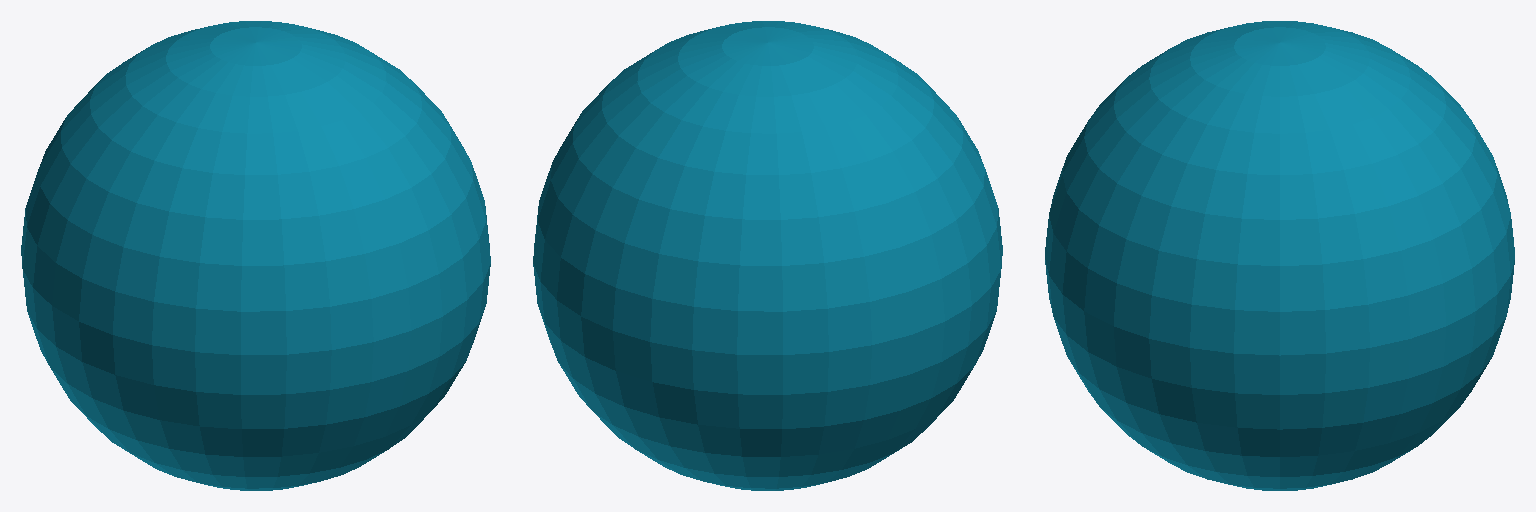
File: blackhole.obj
3 renders of one model, left to right at view 1: azimuth 30°, elevation 25°; view 2: azimuth 150°, elevation 25°; view 3: azimuth 270°, elevation 25°, orthographic.
Parts seen in each view (by area): view 1: Sphere001; view 2: Sphere001; view 3: Sphere001.
Boxes of the visible parts, <box> form: Sphere001: <box>21,21,490,490</box>; Sphere001: <box>533,21,1002,490</box>; Sphere001: <box>1045,21,1514,490</box>.
Bounding box in the file's own units: 41.08 × 41.08 × 41.08.